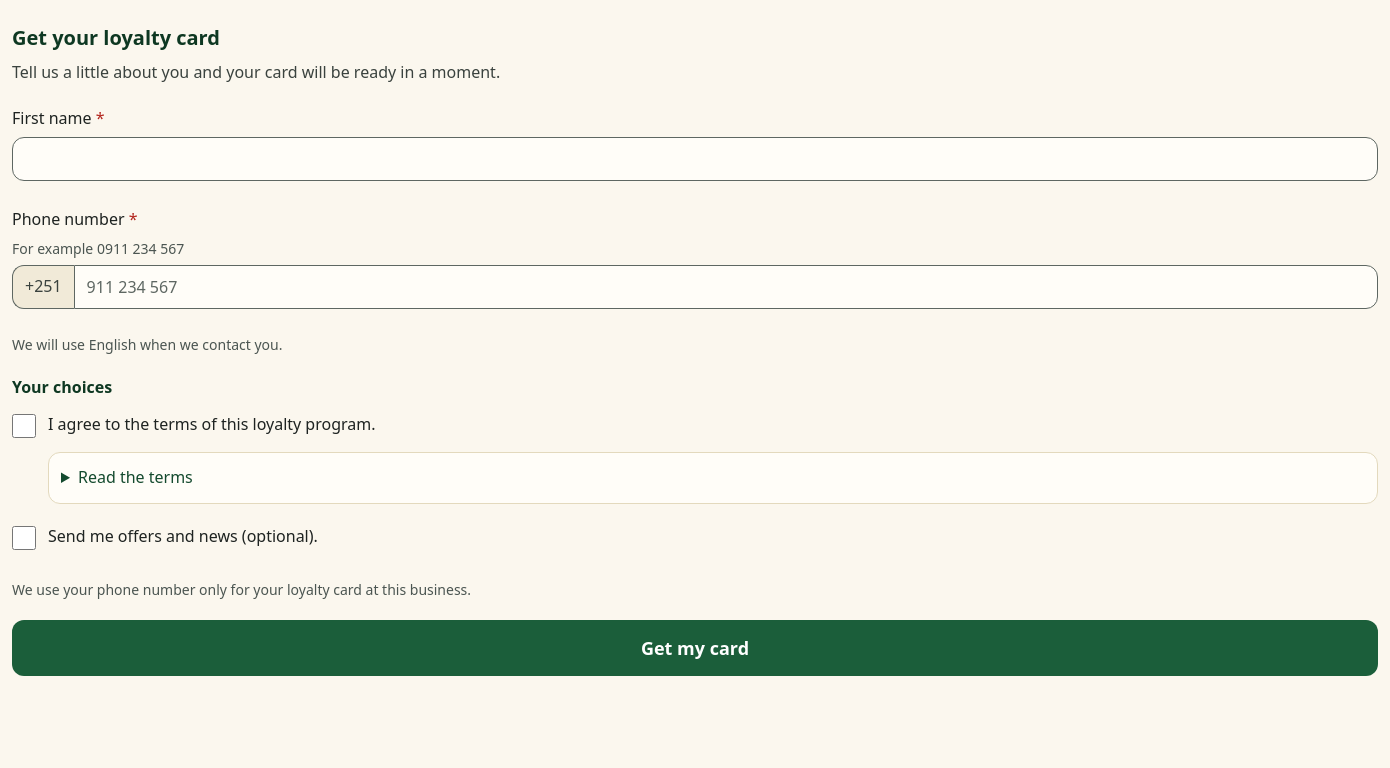
Scenario: EnrollmentFlow › shows clear messages and sends nothing when the form is incomplete
The width and height of the screenshot is (1390, 768).
Step 1. Click the button "Get my card" → (695, 648), box [12,620,1378,676]
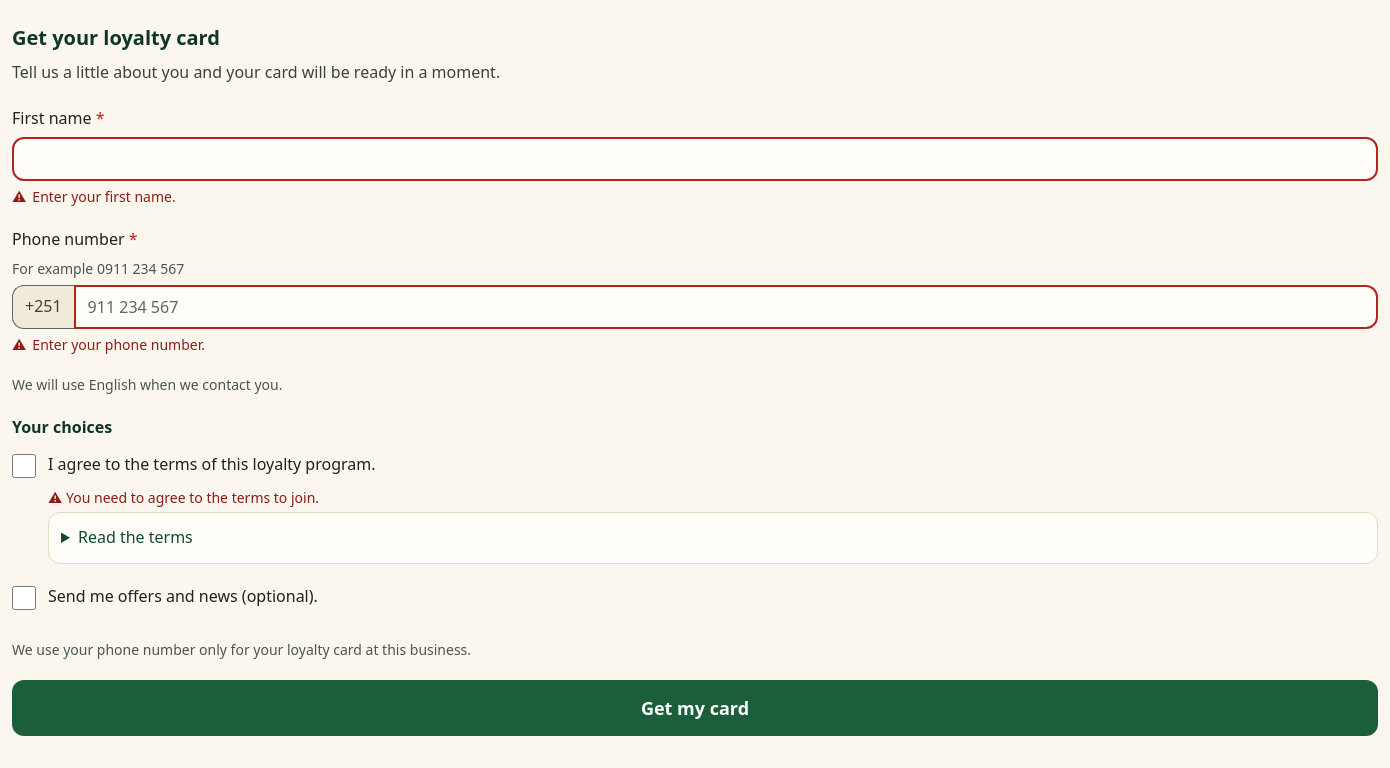
Now the text "Enter your first name." is shown, box [32,187,176,207]
Now the text "Enter your phone number." is shown, box [32,335,205,355]
Now the text "You need to agree to the terms to join." is shown, box [66,488,319,507]
